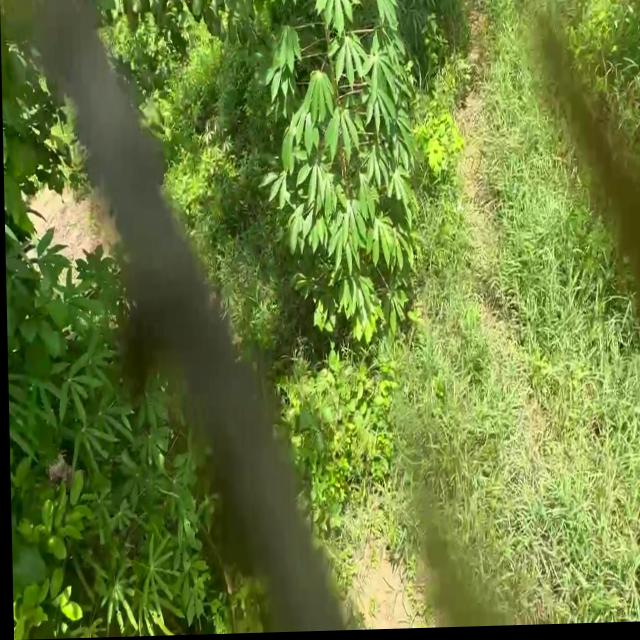Maleza: (405, 341, 634, 499), (493, 203, 640, 386), (434, 78, 549, 311), (498, 447, 640, 607), (292, 362, 409, 500), (169, 88, 259, 252), (123, 18, 234, 135), (17, 490, 88, 621), (227, 191, 279, 360)
Mosca: (148, 377, 177, 398), (142, 450, 163, 476), (114, 367, 134, 394), (16, 304, 35, 332), (13, 408, 30, 430), (10, 337, 20, 363), (315, 150, 329, 167)
